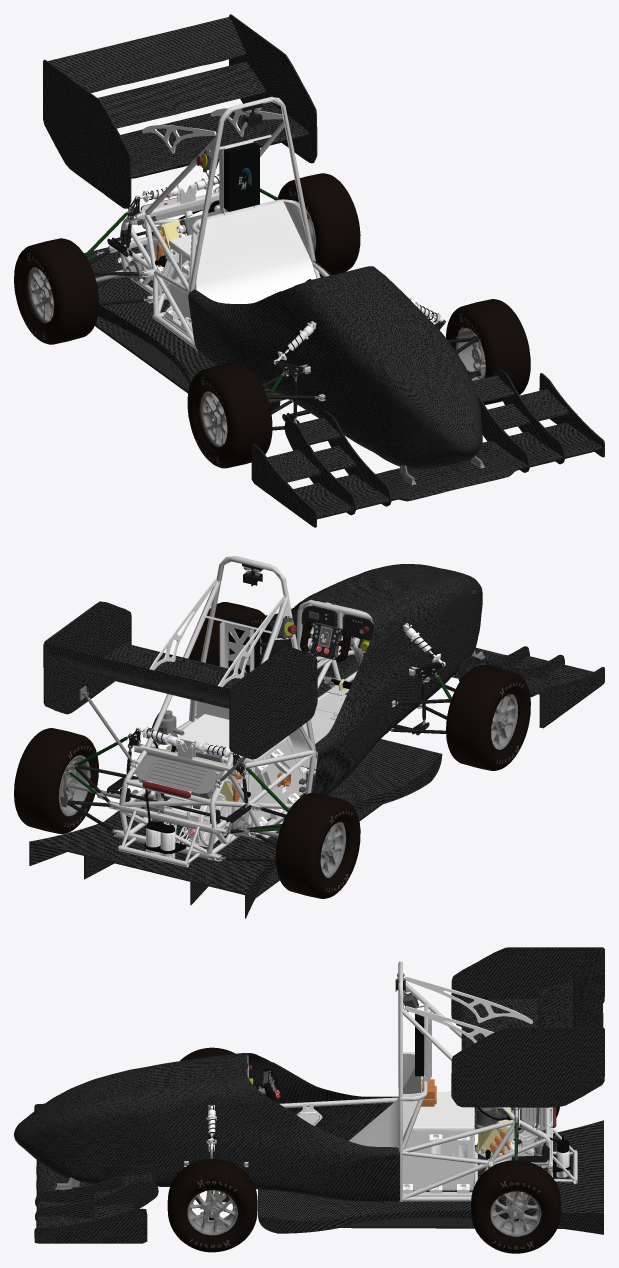
The model's file is car.glb.
3 views of the same model, one above another, from view 1: azimuth 30°, elevation 25°; view 2: azimuth 150°, elevation 25°; view 3: azimuth 270°, elevation 25° (orthographic). The views are drawn at different scales.
Parts seen in each view (by area): view 1: BAKE_CARBON, Firewall, Frame, RR_Tread_Remesh, FR_Tread_Remesh, RL_Tread_Remesh, FL_Tread_Remesh, Seat_Headrest, Aero Assembly_SIM_Export, FR_Wheel, RR_Wheel, Accumulator_Housing (+1 smaller); view 2: BAKE_CARBON, Frame, RR_Tread_Remesh, FR_Tread_Remesh, RL_Tread_Remesh, Accumulator_Housing, Drivetrain_Radiator, FL_Tread_Remesh, Aero Assembly_SIM_Export, RL_Wheel, FR_Wheel, RR_Wheel (+8 smaller); view 3: BAKE_CARBON, Frame, FL_Tread_Remesh, RL_Tread_Remesh, Accumulator_Housing, Firewall, Aero Assembly_SIM_Export, RL_Wheel, FL_Wheel, Drivetrain_Radiator, Seat_Headrest, Drivetrain_Gearbox? (+2 smaller).
Boxes of the visible parts, left/top/right/bottom form: BAKE_CARBON: left=43, top=14, right=604, bottom=527; Firewall: left=196, top=201, right=316, bottom=303; Frame: left=108, top=96, right=329, bottom=402; RR_Tread_Remesh: left=14, top=238, right=98, bottom=344; FR_Tread_Remesh: left=187, top=362, right=272, bottom=468; RL_Tread_Remesh: left=277, top=173, right=360, bottom=274; FL_Tread_Remesh: left=446, top=299, right=530, bottom=404; Seat_Headrest: left=224, top=142, right=259, bottom=211; Aero Assembly_SIM_Export: left=142, top=108, right=282, bottom=153; FR_Wheel: left=200, top=391, right=227, bottom=447; RR_Wheel: left=28, top=267, right=53, bottom=323; Accumulator_Housing: left=169, top=234, right=197, bottom=318; BAKE_CARBON: left=29, top=564, right=604, bottom=918; Frame: left=108, top=556, right=429, bottom=867; RR_Tread_Remesh: left=275, top=792, right=360, bottom=898; FR_Tread_Remesh: left=446, top=665, right=530, bottom=770; RL_Tread_Remesh: left=14, top=728, right=98, bottom=833; Accumulator_Housing: left=170, top=714, right=307, bottom=827; Drivetrain_Radiator: left=133, top=754, right=222, bottom=799; FL_Tread_Remesh: left=188, top=602, right=271, bottom=666; Aero Assembly_SIM_Export: left=149, top=579, right=285, bottom=687; RL_Wheel: left=58, top=755, right=90, bottom=816; FR_Wheel: left=491, top=694, right=517, bottom=749; RR_Wheel: left=320, top=822, right=346, bottom=877; BAKE_CARBON: left=14, top=947, right=604, bottom=1243; Frame: left=84, top=961, right=577, bottom=1201; FL_Tread_Remesh: left=167, top=1158, right=257, bottom=1252; RL_Tread_Remesh: left=471, top=1160, right=560, bottom=1253; Accumulator_Housing: left=403, top=1092, right=473, bottom=1190; Firewall: left=349, top=1053, right=422, bottom=1147; Aero Assembly_SIM_Export: left=404, top=976, right=532, bottom=1043; RL_Wheel: left=490, top=1191, right=541, bottom=1236; FL_Wheel: left=187, top=1190, right=237, bottom=1235; Drivetrain_Radiator: left=518, top=1107, right=546, bottom=1137; Seat_Headrest: left=415, top=1013, right=423, bottom=1076; Drivetrain_Gearbox?: left=499, top=1129, right=537, bottom=1160.
Bounding box in the file's own units: 1.57 × 1.25 × 3.01.
Materials: 25 (4 with a texture image).
